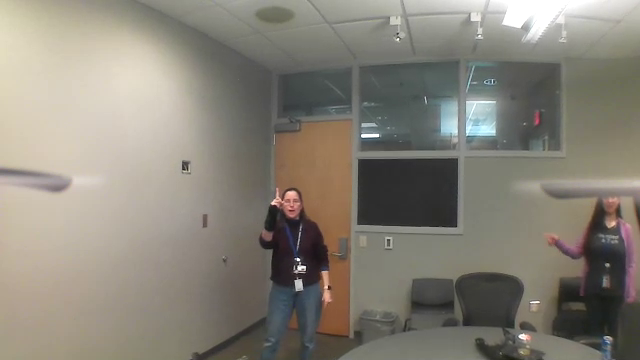up: (267, 186, 286, 212)
